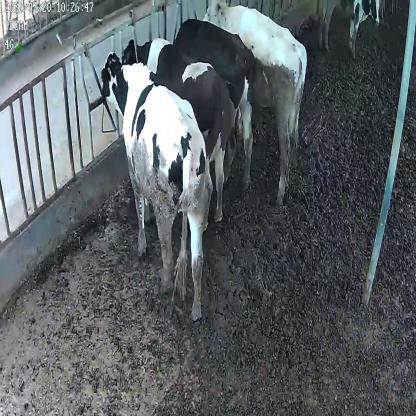cow: (99, 47, 213, 322), (119, 35, 235, 238), (200, 0, 307, 208), (170, 16, 259, 189), (316, 0, 383, 58)
